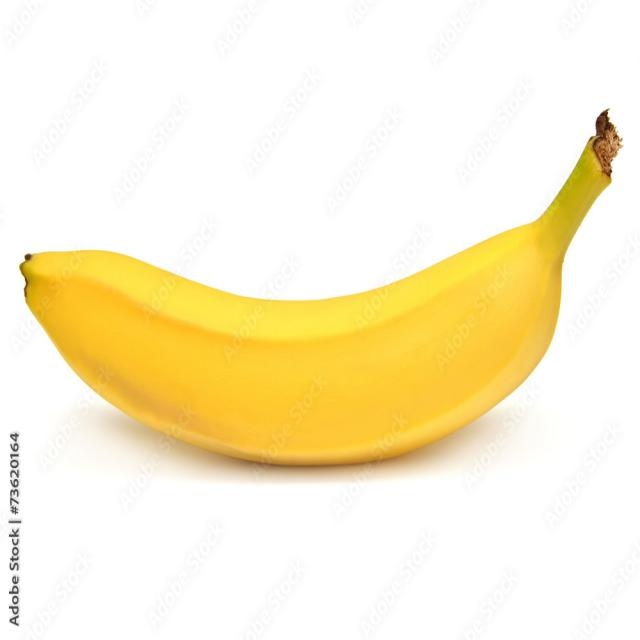agrume: (16, 105, 624, 471)
